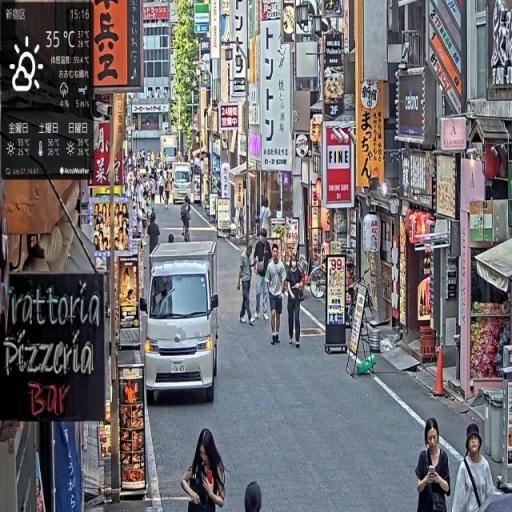person: (452, 423, 501, 512), (182, 427, 228, 512), (415, 415, 452, 512), (267, 245, 288, 348), (285, 251, 307, 349), (254, 229, 274, 322), (238, 242, 257, 327), (182, 198, 193, 244)
